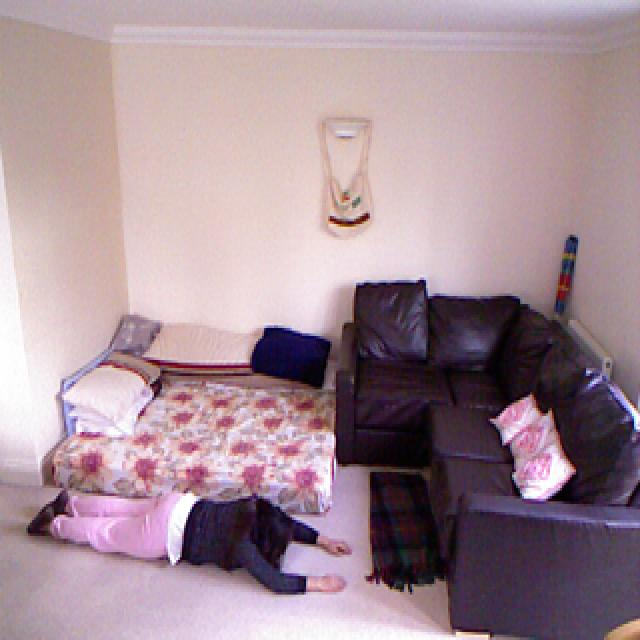lying: (27, 490, 354, 590)
